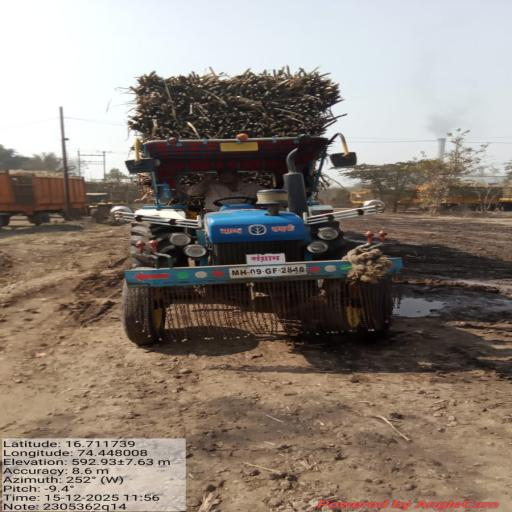number_plate: (222, 266, 323, 280)
